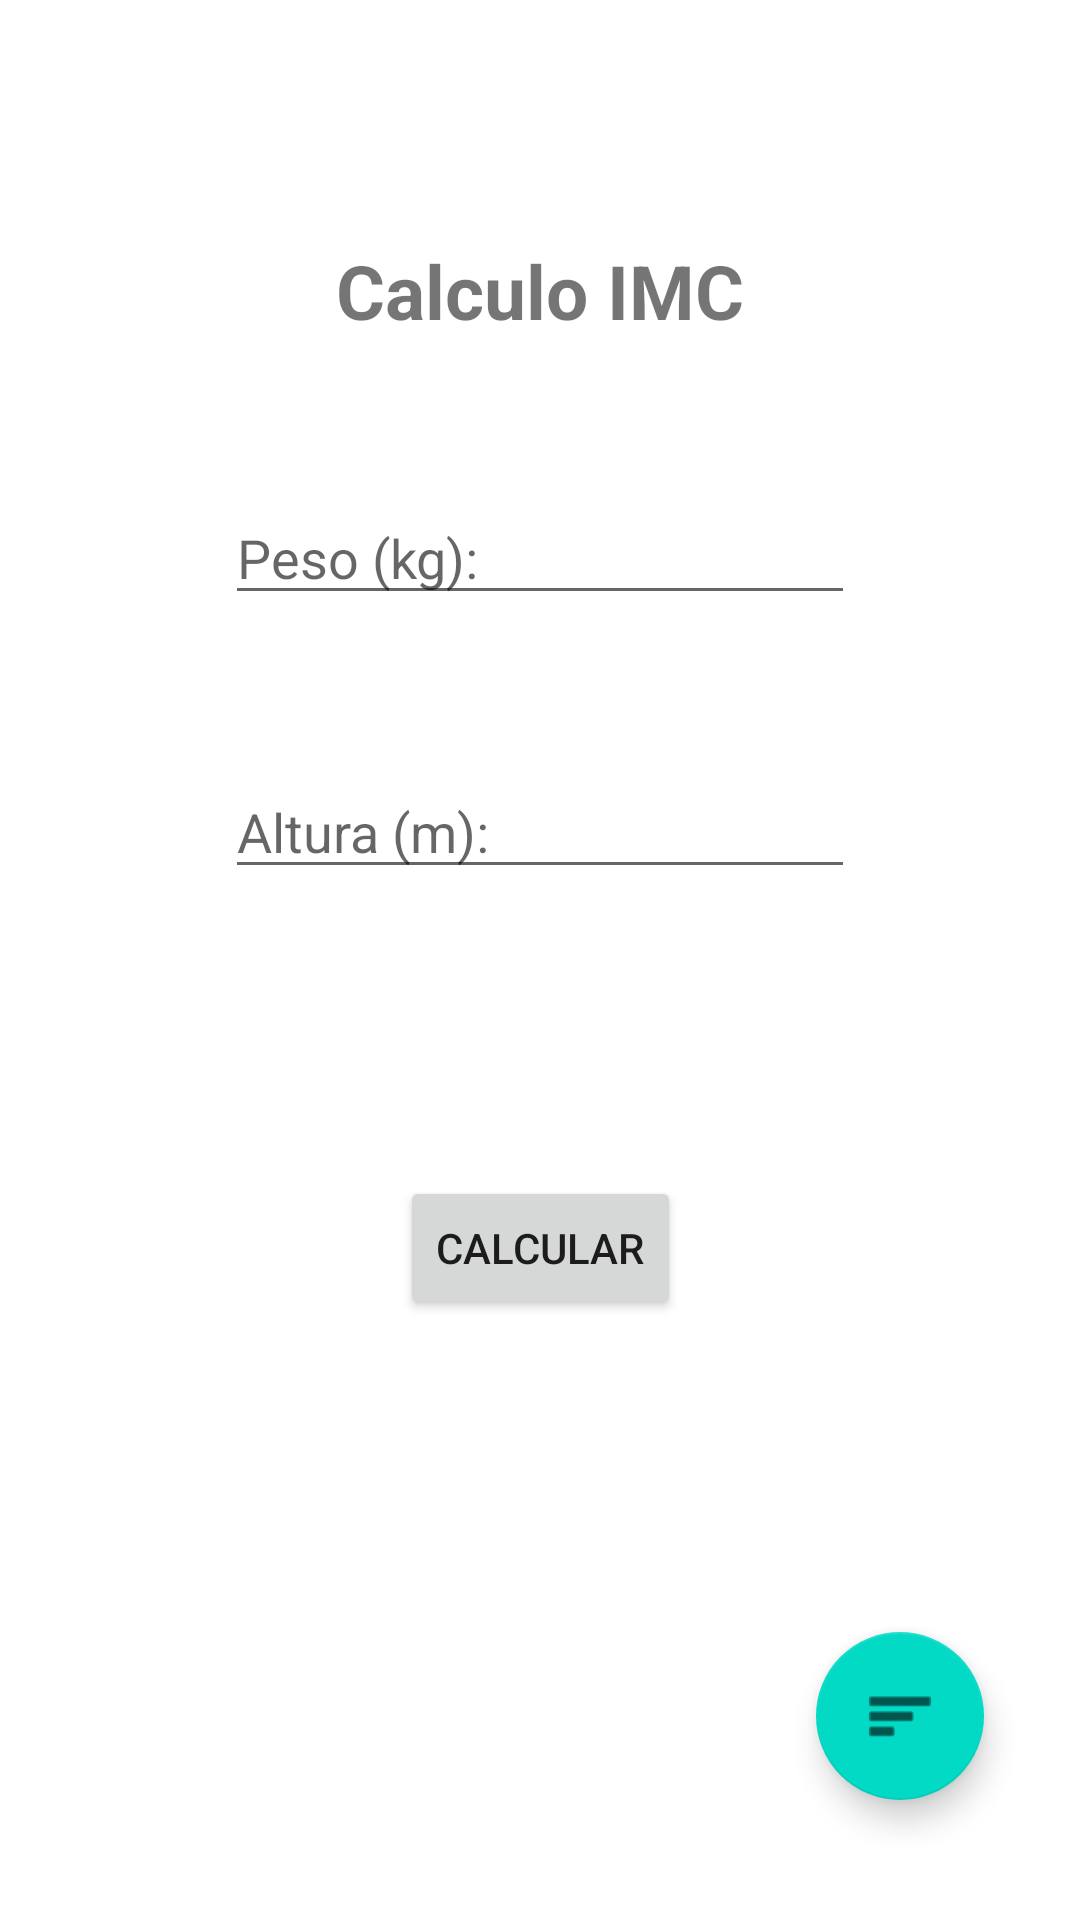

Screen size 1080 × 1920. Icon name, then its center in pixels as (x=x, y=y):
sort by size: (x=900, y=1716)
